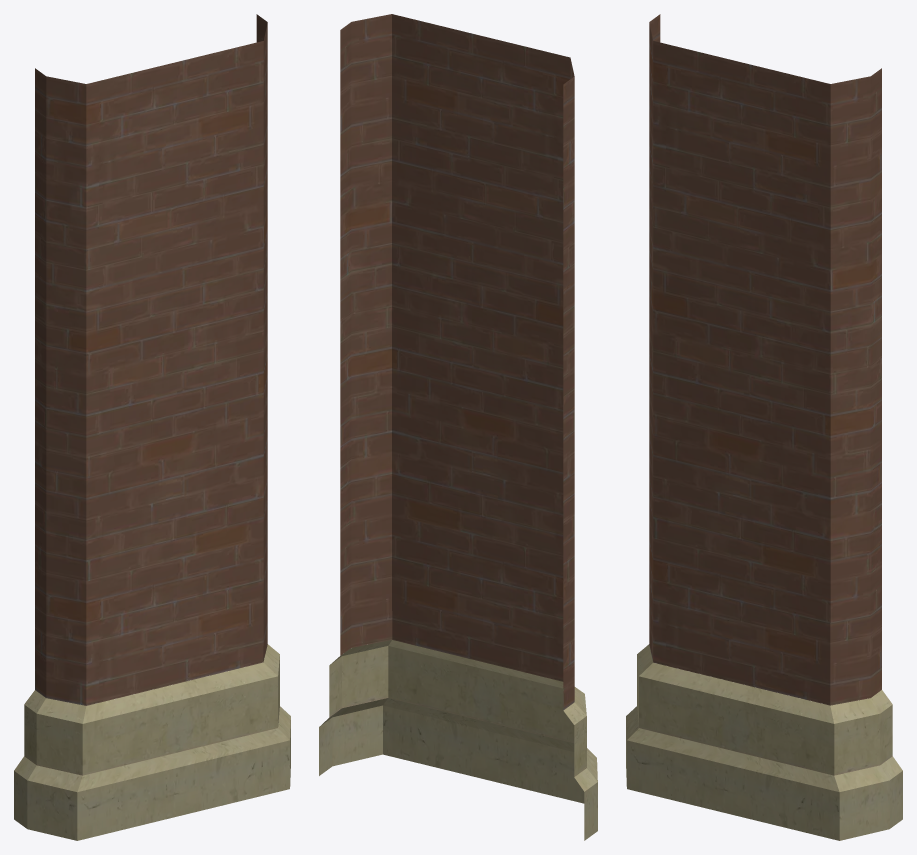
Rendered from Brick_HalfColumn_Bottom.glb.
3 views of the same model, side by side, from view 1: azimuth 30°, elevation 25°; view 2: azimuth 150°, elevation 25°; view 3: azimuth 330°, elevation 25° (orthographic).
Parts seen in each view (by area): view 1: Brick_HalfColumn_Bottom; view 2: Brick_HalfColumn_Bottom; view 3: Brick_HalfColumn_Bottom.
Part boxes in pixels (x1,y1,x2,y2): Brick_HalfColumn_Bottom: [14, 14, 290, 840]; Brick_HalfColumn_Bottom: [319, 14, 597, 840]; Brick_HalfColumn_Bottom: [626, 14, 902, 840].
Bounding box in the file's own units: 1.11 × 3 × 0.2763.
Materials: 2 (2 with a texture image).
